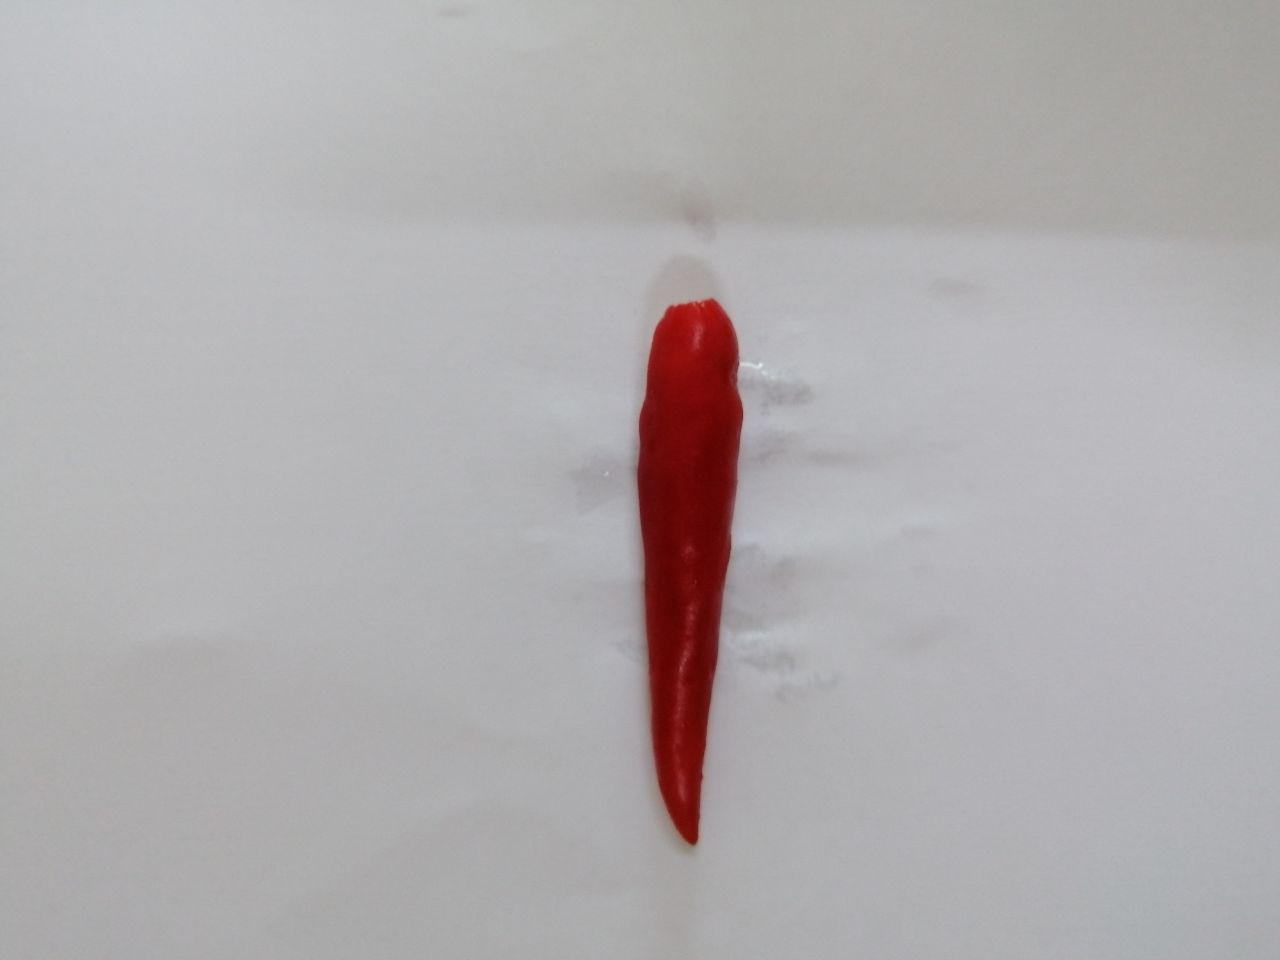lada merah: (590, 272, 778, 871)
